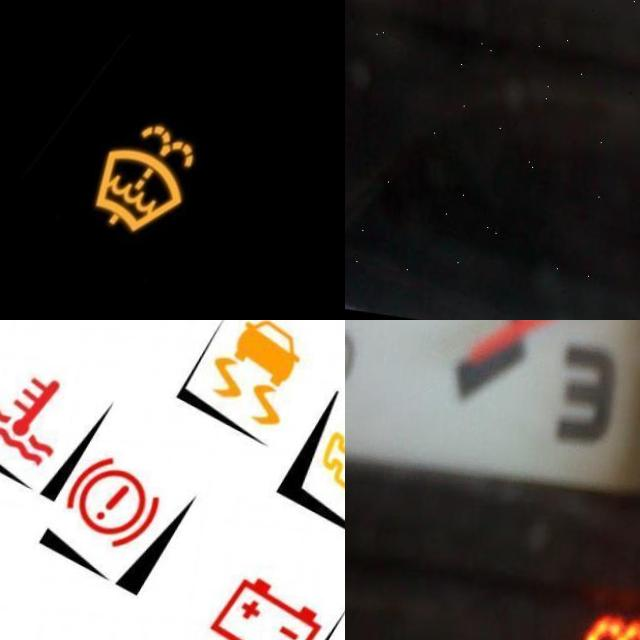Washer Fluid: (104, 114, 210, 229)
